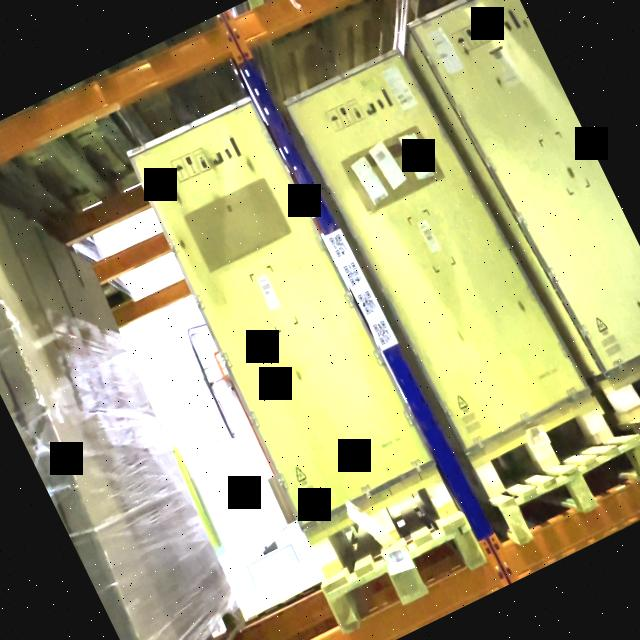box: (127, 97, 433, 528), (285, 48, 589, 450)
